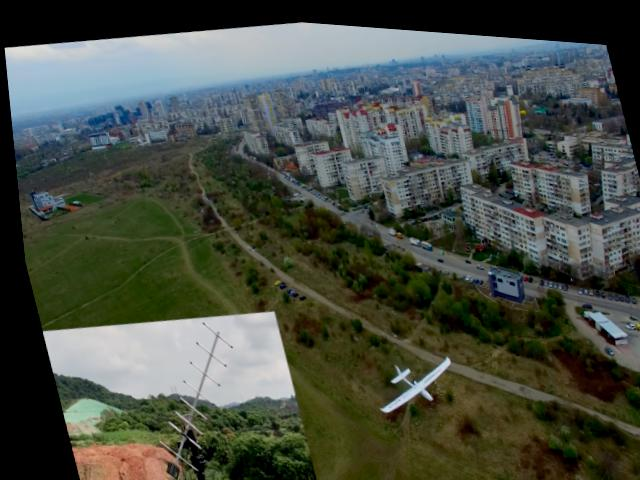plane: (363, 346, 454, 413)
